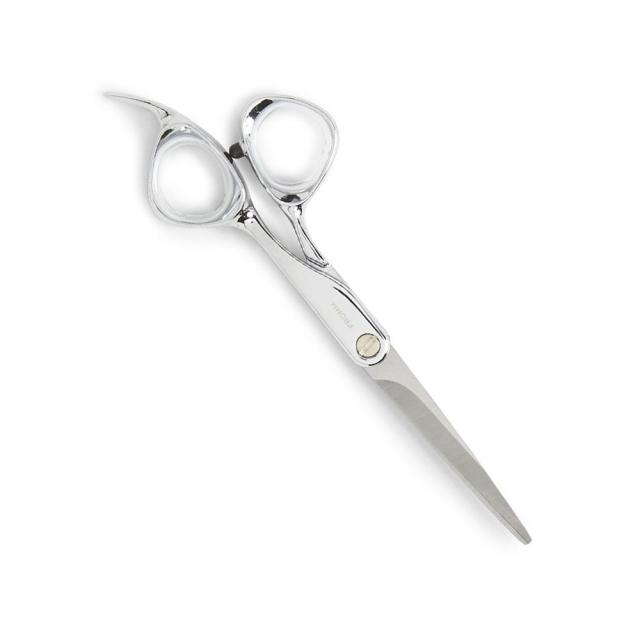Gunting: (95, 76, 579, 546)
